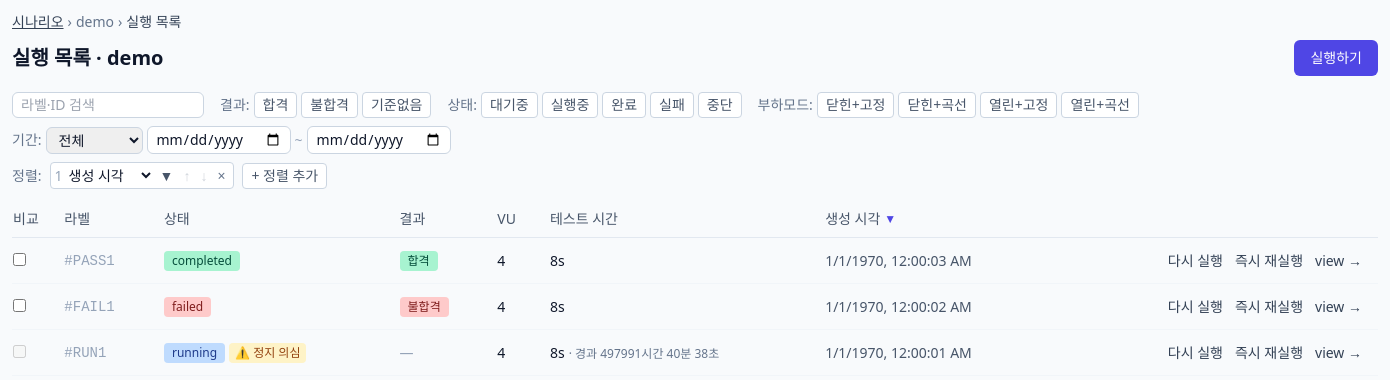
ScenarioRunsPage — filter/sort (run-list-filter-sort) › status filter hides non-matching rows (R5)
Click the button "실행중". click: (570, 105)
box: [542,92,598,118]
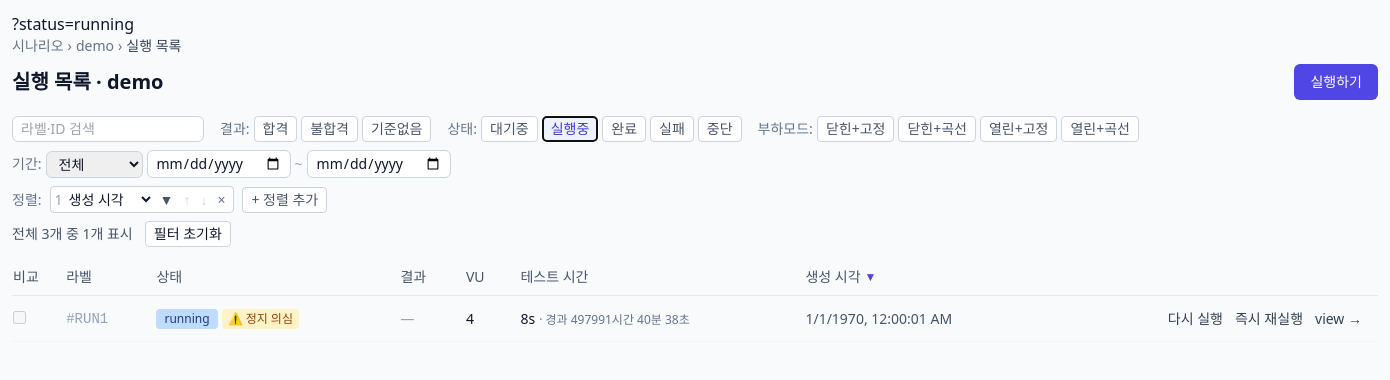
Result: the number of links "view →" is 1 at [1315,308,1362,328]
